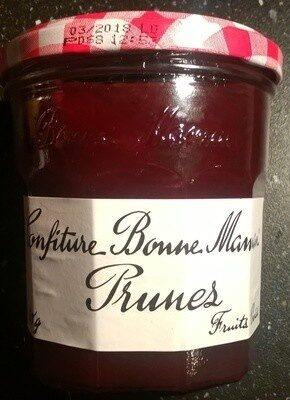Prunes - Confiture: (14, 20, 276, 380)
